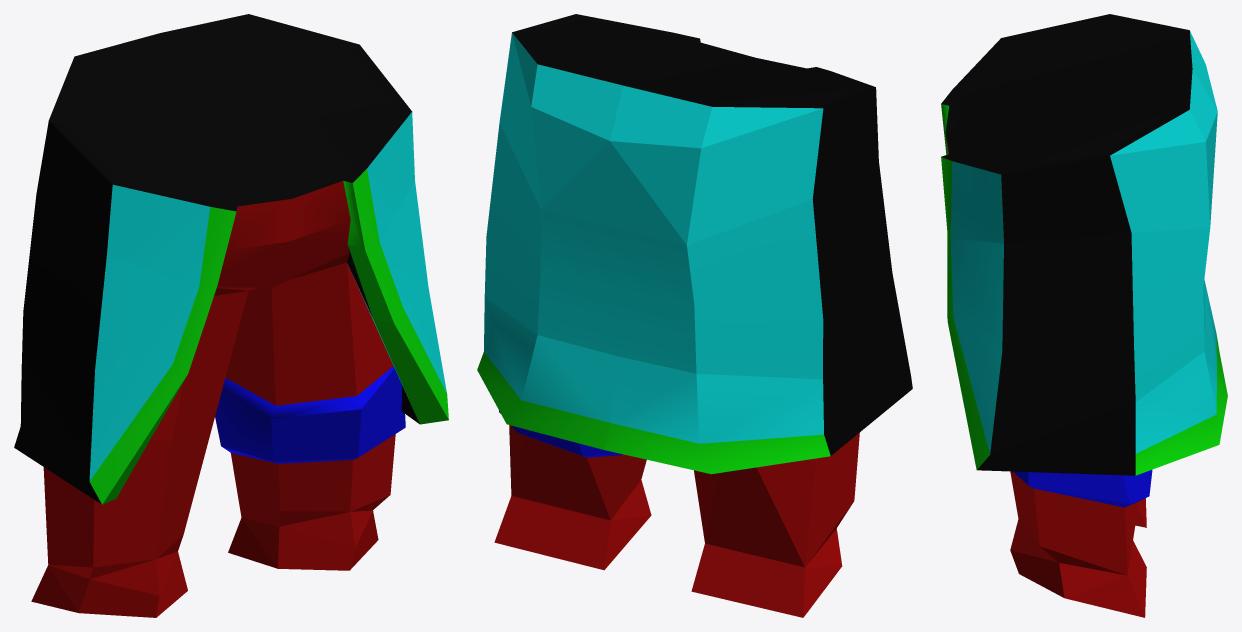
The model's file is Chr_Hips_Male_Static_03.fbx.
3 views of the same model, side by side, from view 1: azimuth 30°, elevation 25°; view 2: azimuth 150°, elevation 25°; view 3: azimuth 270°, elevation 25° (orthographic). The views are drawn at different scales.
Parts seen in each view (by area): view 1: Chr_Hips_Male_03; view 2: Chr_Hips_Male_03; view 3: Chr_Hips_Male_03.
Part boxes in pixels (bbox=[...]): Chr_Hips_Male_03: bbox=[14, 14, 448, 617]; Chr_Hips_Male_03: bbox=[477, 14, 912, 617]; Chr_Hips_Male_03: bbox=[941, 14, 1227, 617].
Bounding box in the file's own units: 40.52 × 55.45 × 30.12.
